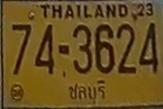2: (116, 23, 134, 73)
3: (72, 24, 91, 73)
4: (138, 22, 158, 72), (34, 23, 53, 73)
6: (94, 23, 114, 73)
7: (11, 23, 30, 74)
CBI: (66, 78, 107, 106)
